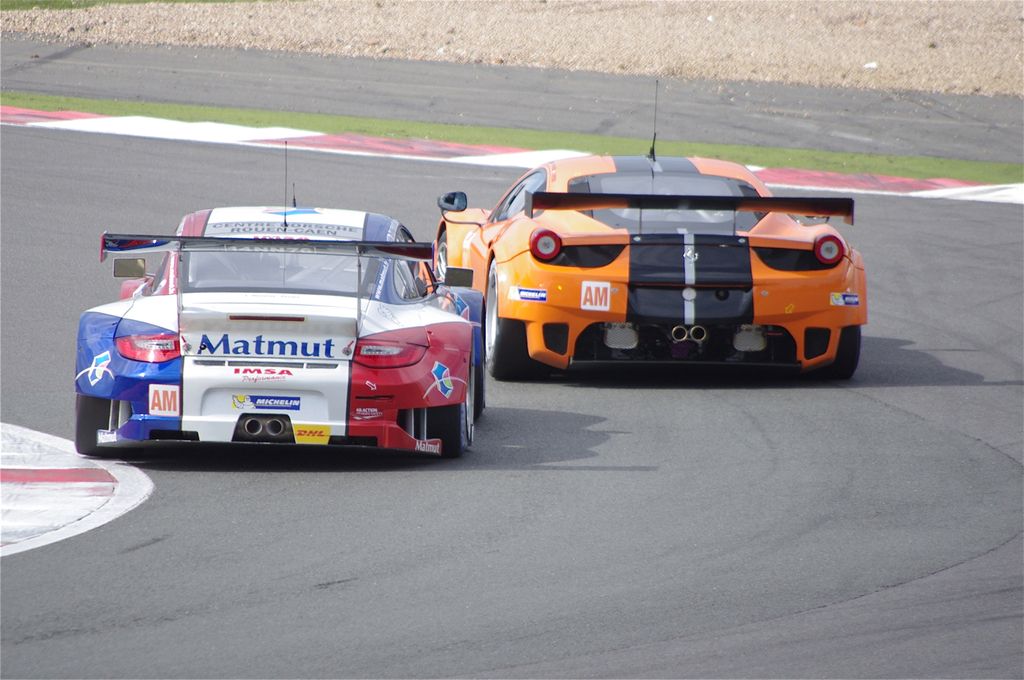Car: (424, 70, 871, 376), (60, 199, 495, 464)
